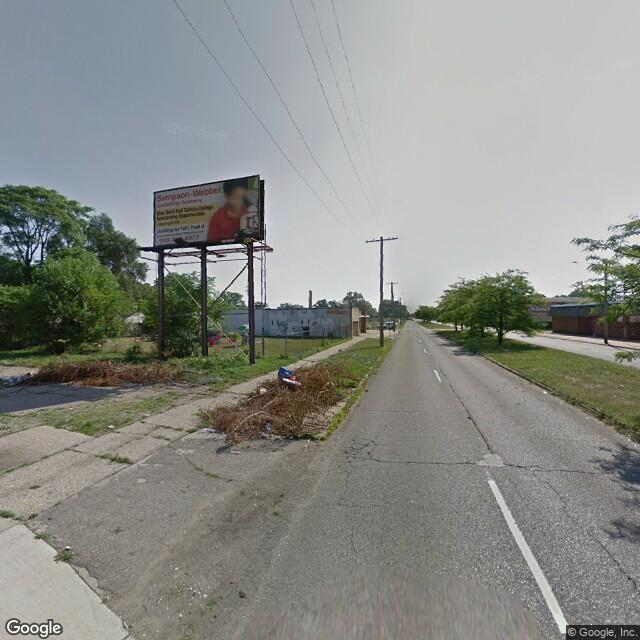litter: (272, 363, 305, 390), (59, 538, 77, 550), (103, 422, 120, 433)
